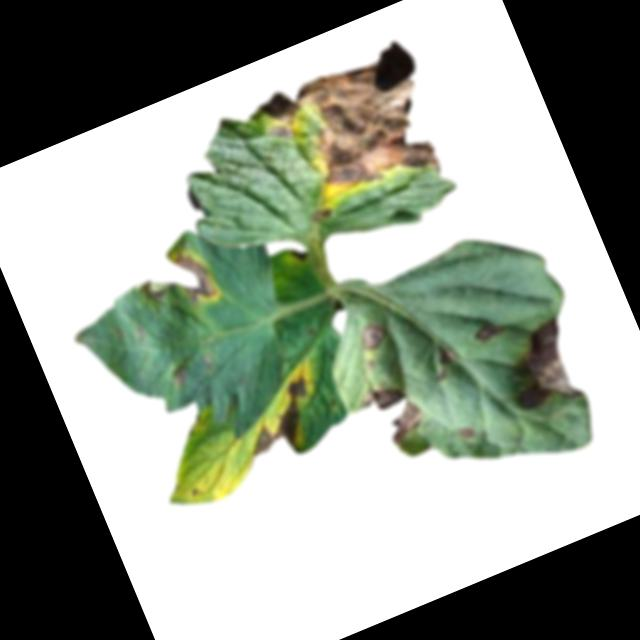Early_blight: (245, 34, 459, 232), (226, 360, 339, 468), (494, 313, 588, 418), (127, 238, 223, 326), (348, 373, 430, 453), (466, 314, 507, 349), (356, 315, 390, 353), (167, 362, 191, 388), (435, 344, 457, 367), (289, 243, 308, 264), (456, 422, 476, 440)
